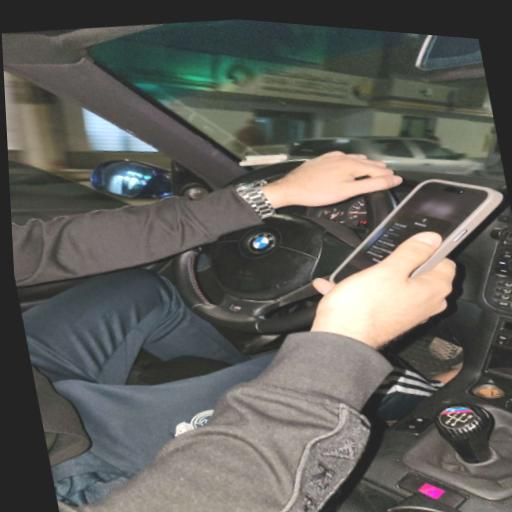Hands-on-the-Wheel: (222, 126, 414, 228)
